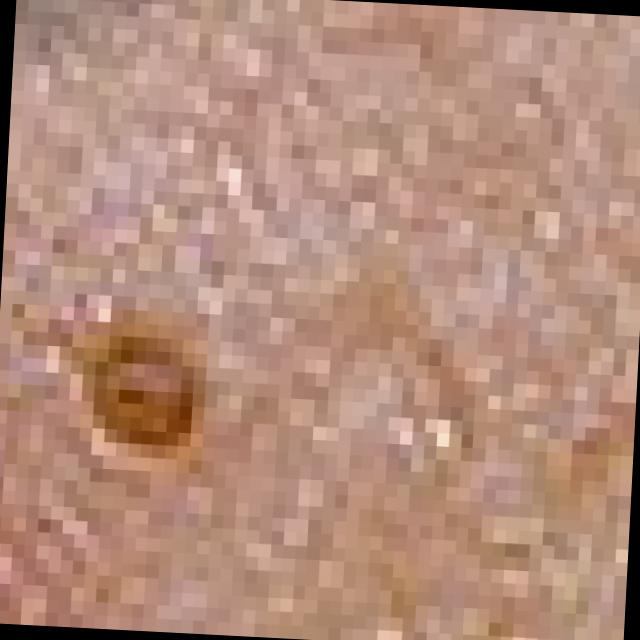blackhead: (75, 312, 218, 461)
